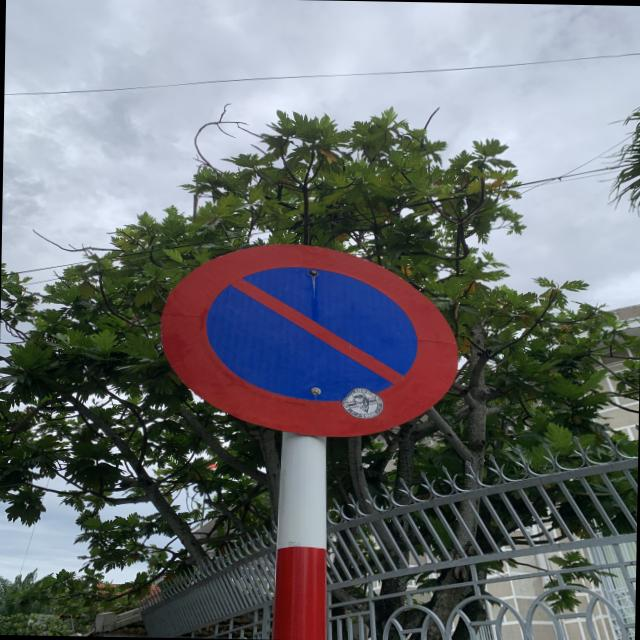Cam_Dau_Xe: (152, 238, 466, 439)
